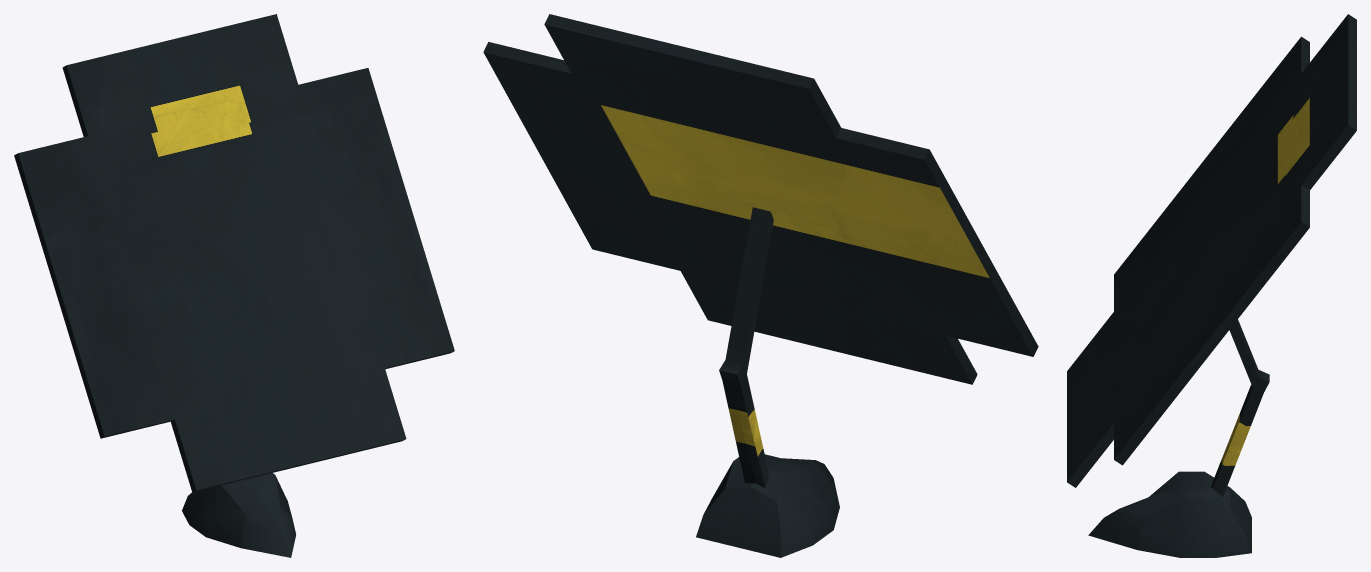
File: solar array.fbx
3 views of the same model, side by side, from view 1: azimuth 30°, elevation 25°; view 2: azimuth 150°, elevation 25°; view 3: azimuth 270°, elevation 25° (orthographic). The views are drawn at different scales.
Parts seen in each view (by area): view 1: pPlane2, pCube14; view 2: pPlane2, pCube14; view 3: pPlane2, pCube14.
Boxes of the visible parts, x1,y1,x2,y2 form: pPlane2: [14, 14, 454, 492]; pCube14: [182, 473, 296, 557]; pPlane2: [483, 14, 1038, 384]; pCube14: [696, 207, 839, 557]; pPlane2: [1067, 14, 1356, 487]; pCube14: [1088, 319, 1269, 557].
Size of the model in its own units: 5.43 by 6.37 by 3.59.
